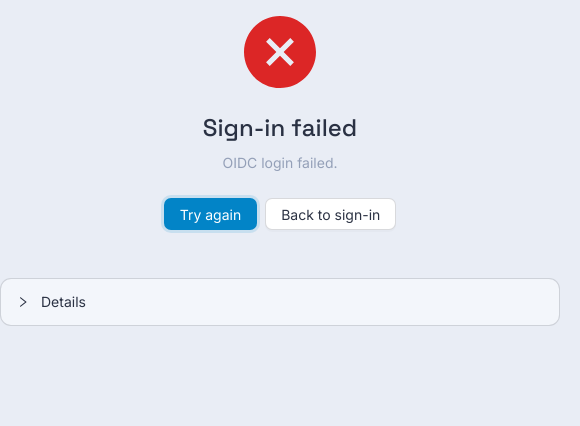
Scenario: OIDCCallback › shows unknown error details
Expected: the text "OIDC login failed." is shown, [222,154,338,171]
Click the button "Details": x=52, y=302 [17,293,86,310]
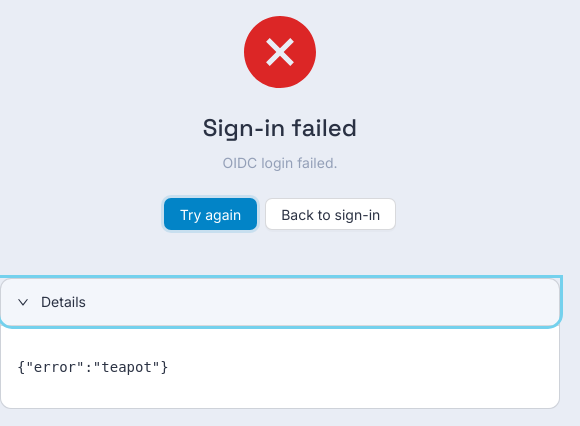
Expected: the text "{\"error\":\"teapot\"}" is shown, [17,359,169,375]
